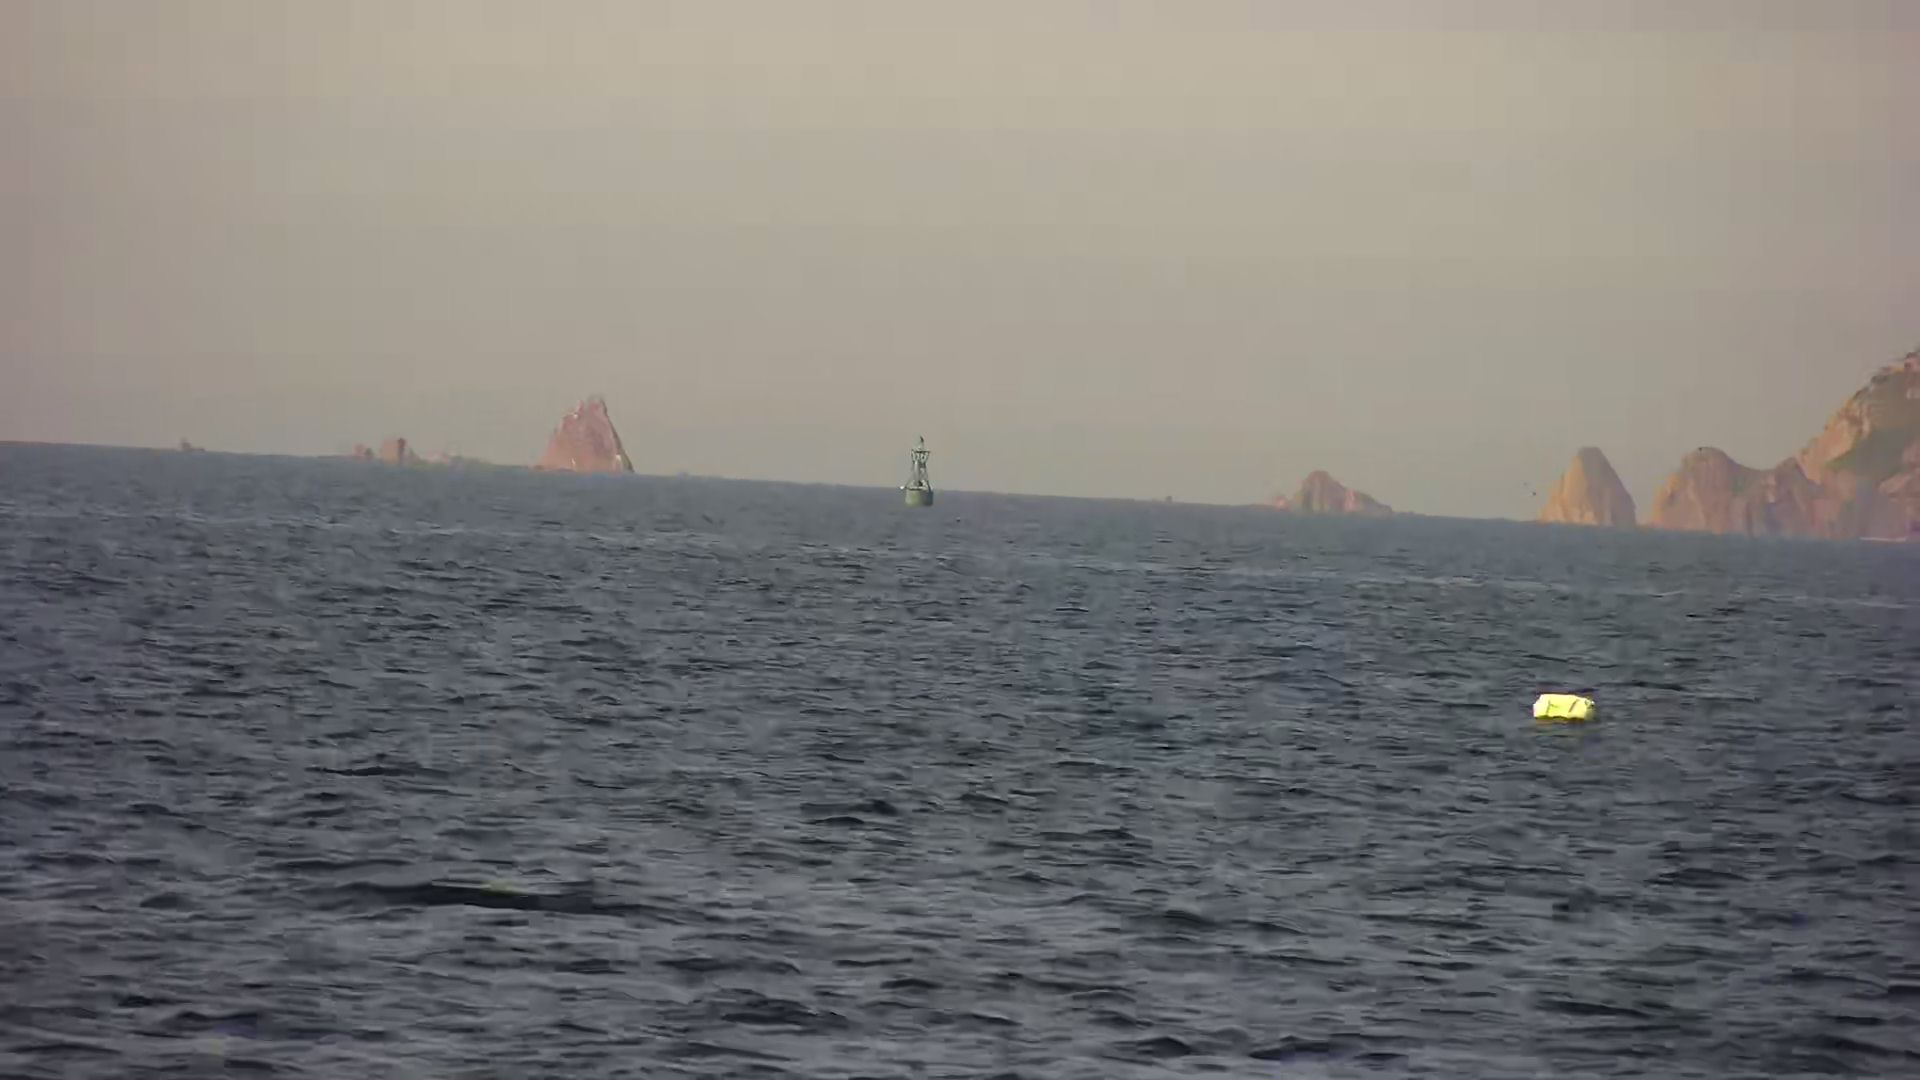buoy: (902, 431, 942, 504)
rubbish: (1528, 673, 1607, 731)
